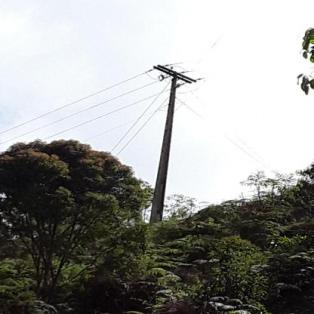Poste: (147, 70, 180, 222)
